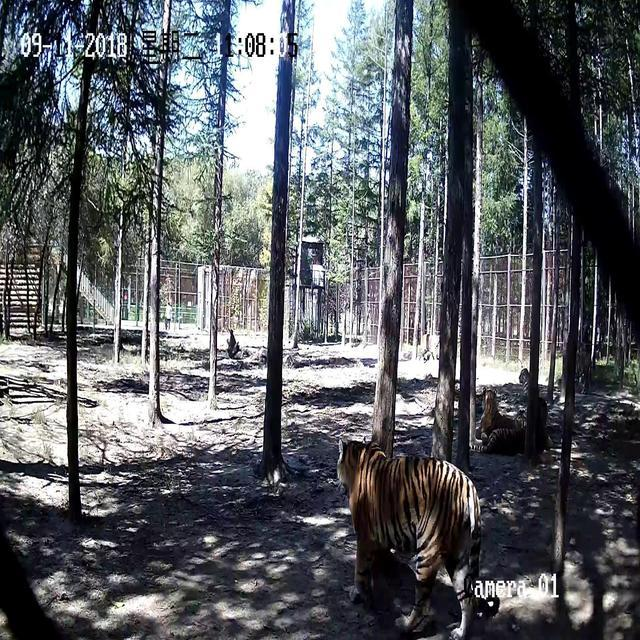tiger: (335, 437, 483, 639), (474, 387, 551, 455)
